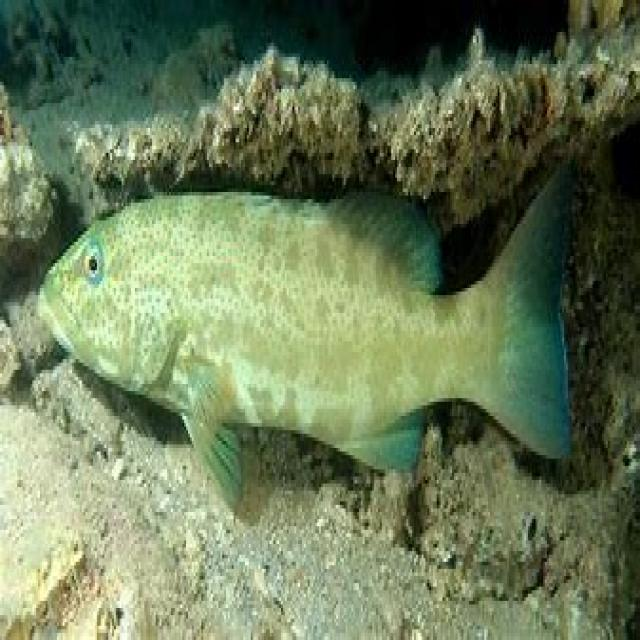Plectropomus-leopardus: (33, 122, 599, 516)
